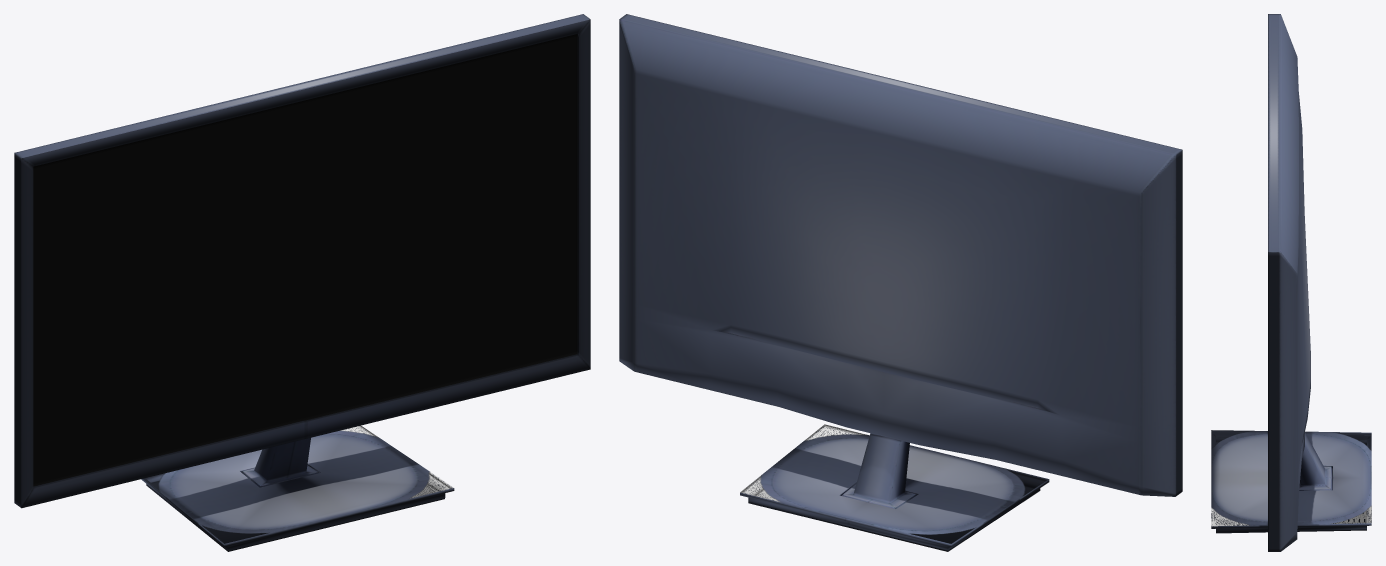
File: monitor.glb
3 views of the same model, side by side, from view 1: azimuth 30°, elevation 25°; view 2: azimuth 150°, elevation 25°; view 3: azimuth 270°, elevation 25° (orthographic). The views are drawn at different scales.
Visible parts, largest first — view 1: monitor; view 2: monitor, Plane.001; view 3: monitor, Plane.001.
Part boxes in pixels (left/top/right/bottom): monitor: left=14, top=14, right=590, bottom=551; monitor: left=619, top=14, right=1182, bottom=551; Plane.001: left=740, top=424, right=867, bottom=501; monitor: left=1211, top=14, right=1371, bottom=551; Plane.001: left=1211, top=506, right=1371, bottom=526.
Bounding box in the file's own units: 3.4 × 2.37 × 0.9679.
1 material, 1 textured.
